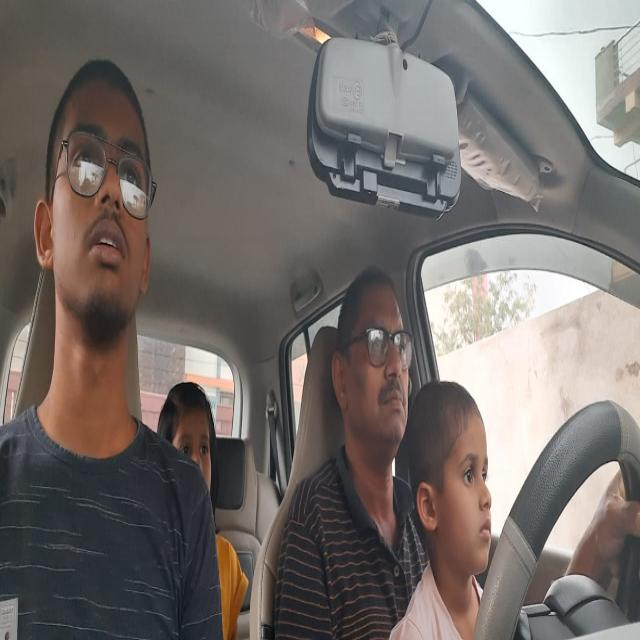child: (410, 386, 496, 571)
person: (39, 76, 155, 332), (330, 284, 412, 452), (162, 369, 218, 482)
